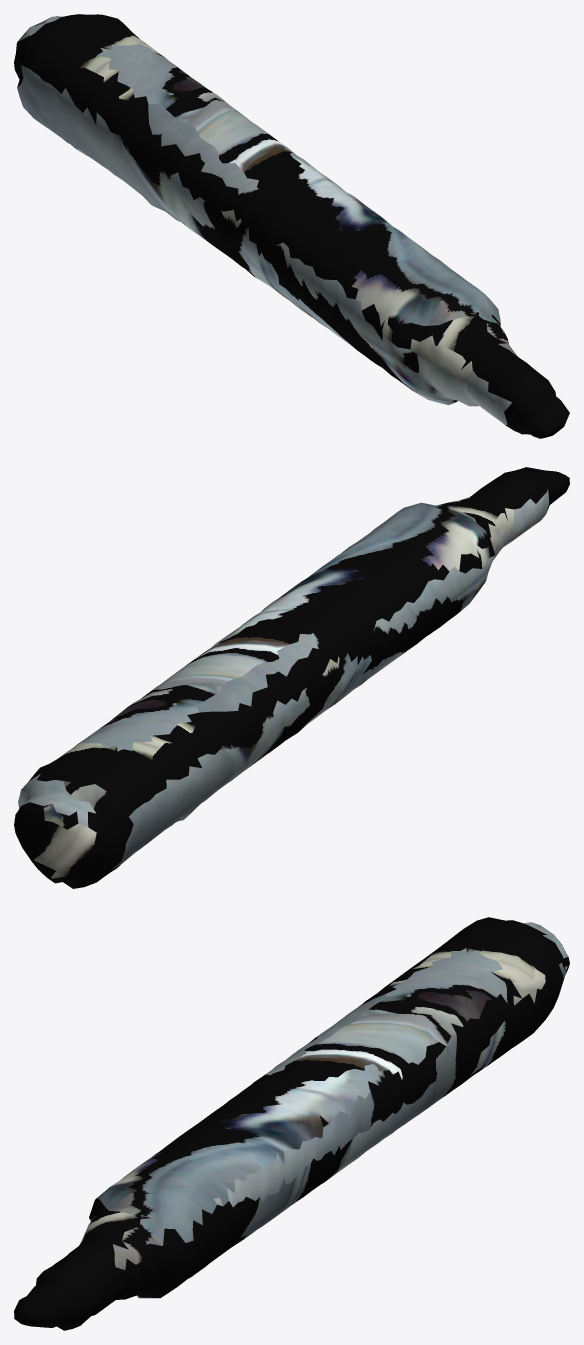
The model's file is scan_align.obj.
3 views of the same model, one above another, from view 1: azimuth 30°, elevation 25°; view 2: azimuth 150°, elevation 25°; view 3: azimuth 330°, elevation 25° (orthographic). The views are drawn at different scales.
Bounding box in the file's own units: 0.0155 × 0.0157 × 0.1249.
